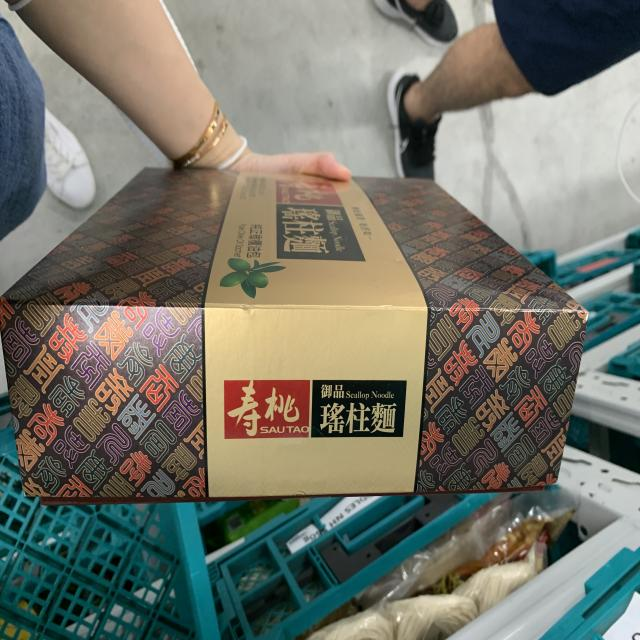object_name: (16, 186, 561, 477)
